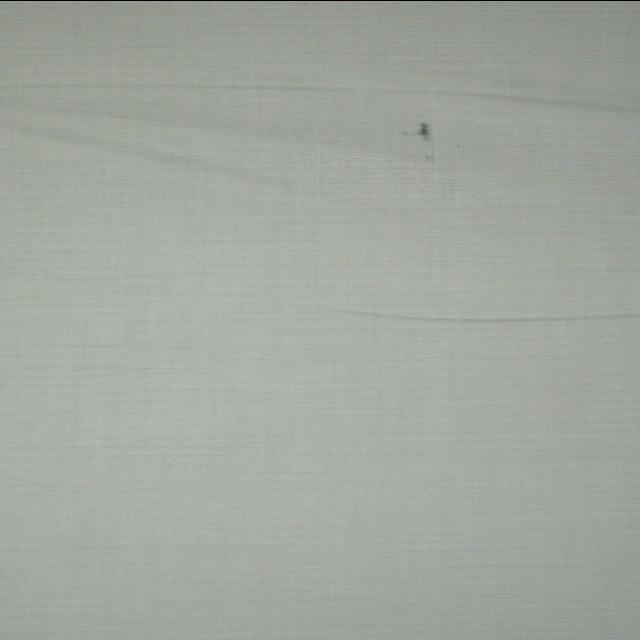dirty: (408, 120, 434, 140)
